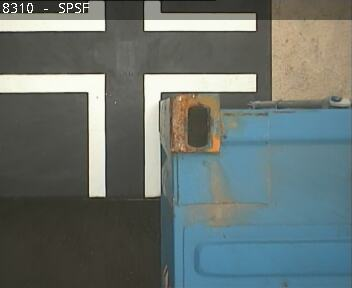groundmarker_1: (1, 74, 260, 197), (1, 1, 256, 32)
